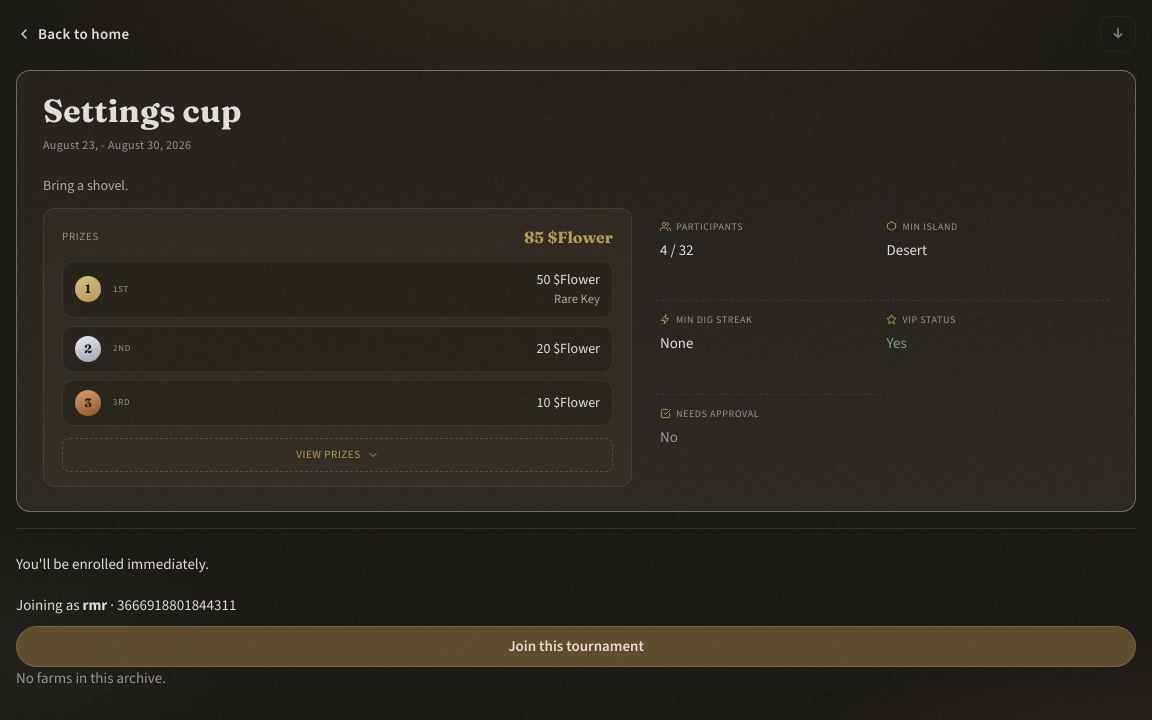
Test case: TournamentsPage › shows two-column winners and stats, NFT medals, and view-all for more than three places
The width and height of the screenshot is (1152, 720).
expect the text with test id "tournament-description" shows "Bring a shovel": met, box [43,176,128,195]
expect the text with test id "tournament-window" reads "August 23, - August 30, 2026": met, box [43,137,191,153]
Click the button with test id "tournament-more-prizes" at point(338, 455), box [62,438,613,472]
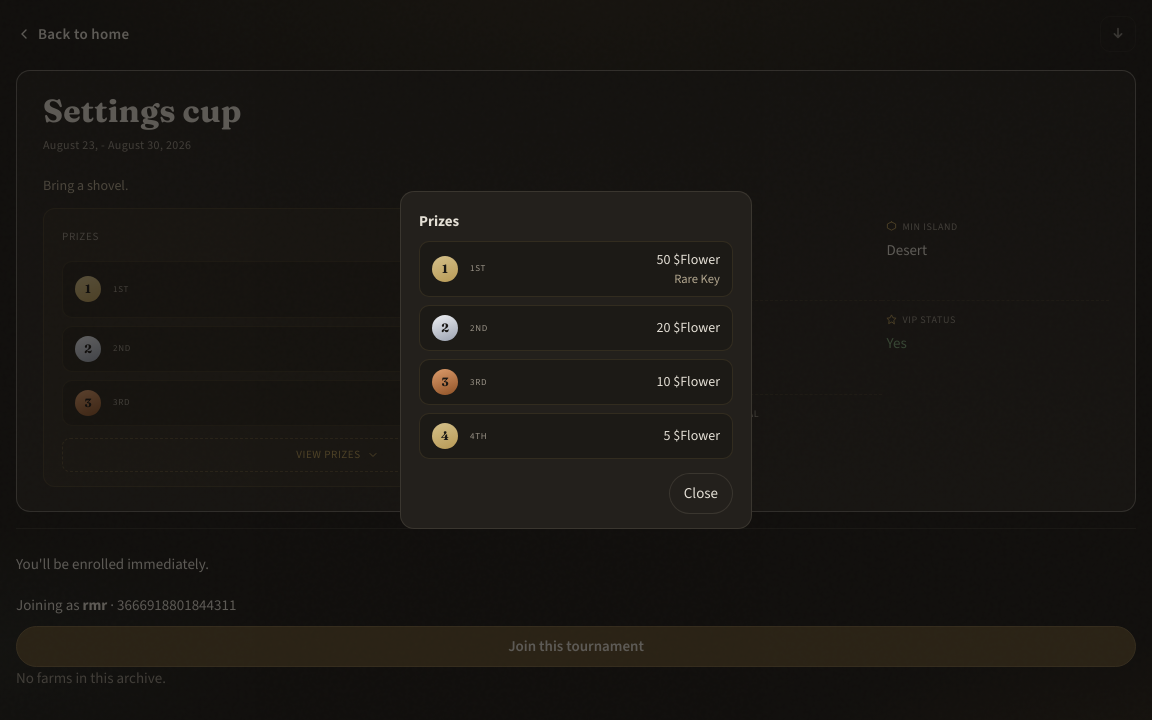
expect the dialog with test id "tournament-prizes-modal" is shown: met
expect the dialog with test id "tournament-prizes-modal" shows "4th": met
expect the dialog with test id "tournament-prizes-modal" shows "5 $Flower": met, box [664,426,720,445]
